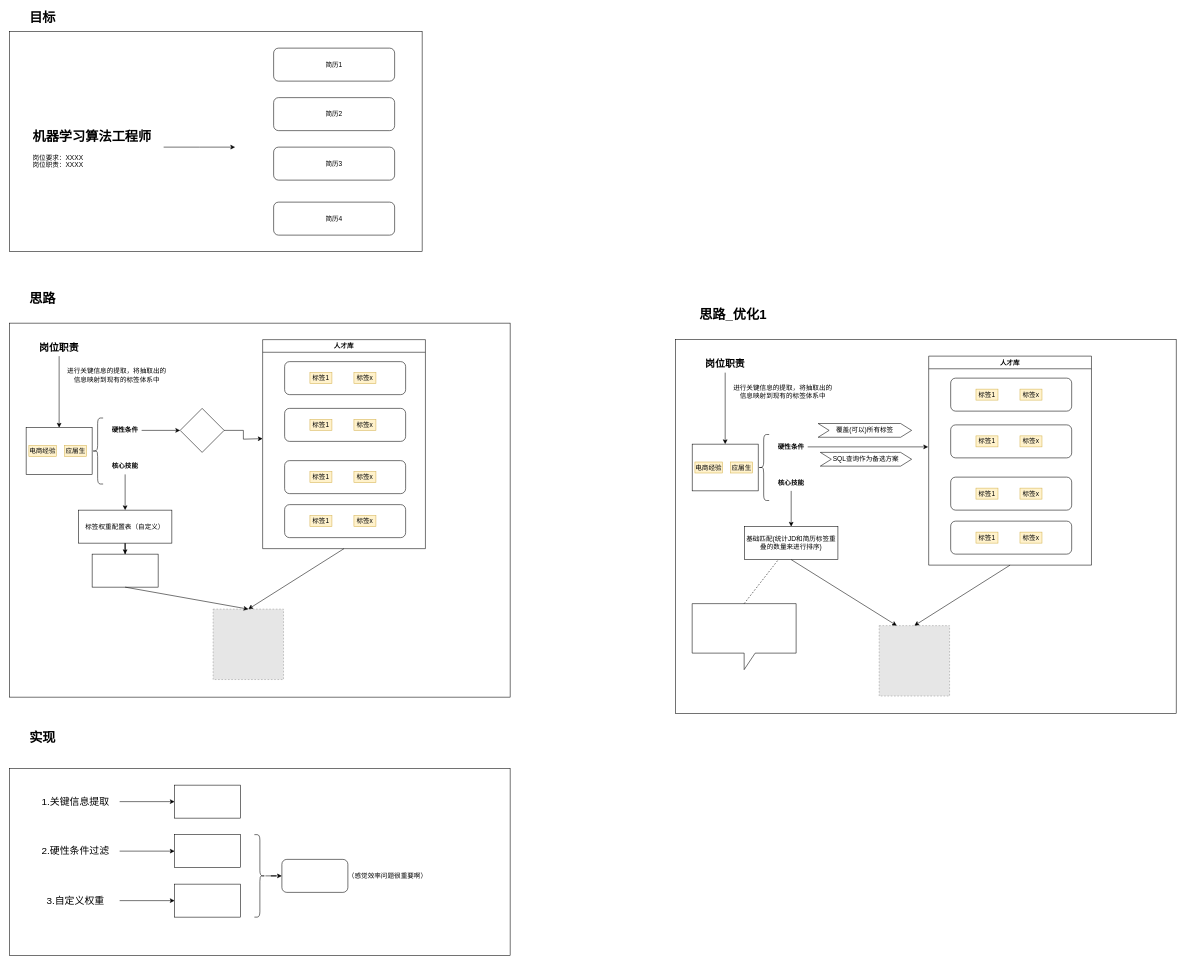
This 1186x965 diagram has some shape labels left out. Grey dashed boxes stand in for pictures. The centre of each missing label's shape, as x and y in pixels:
"保留权重分配的功能，更加易用。领英招聘系统有一个功能是：HR在发布职位的时，可勾选Must Have" belongs at (744,636).
"可以利用大模型来进行提取分析（训练微调）" belongs at (207,801).
"扫描人才库中的简历，进行打分，打分完进行排序，推荐" belongs at (314,875).
"满足为1，不满足为0 计算权重时进行乘法" belongs at (207,851).
"计算标签权重" belongs at (125,570).
"过滤" belongs at (202,430).
"这个还是好设置的" belongs at (207,900).
